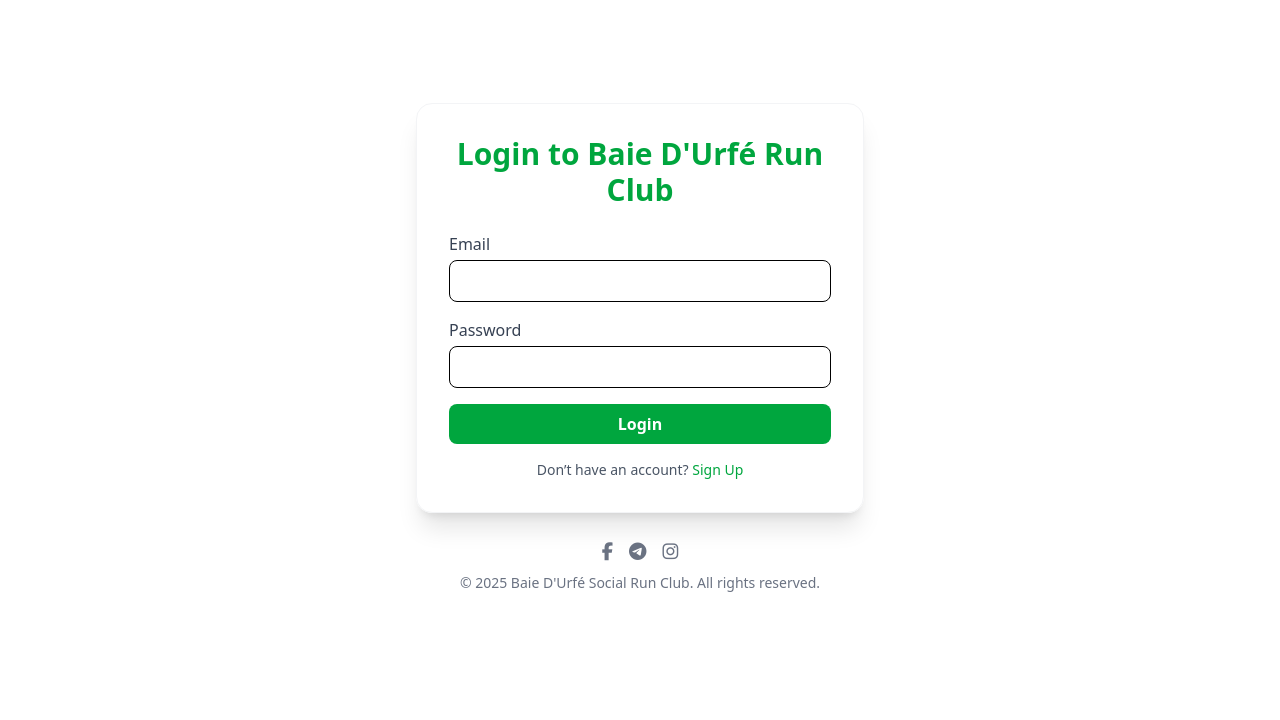
Test: Login Flow › should redirect to signup page when clicking "Sign Up"
Note: Click the "Sign Up" link
Click the link "Sign Up" at (718, 470), box [692,460,743,479]
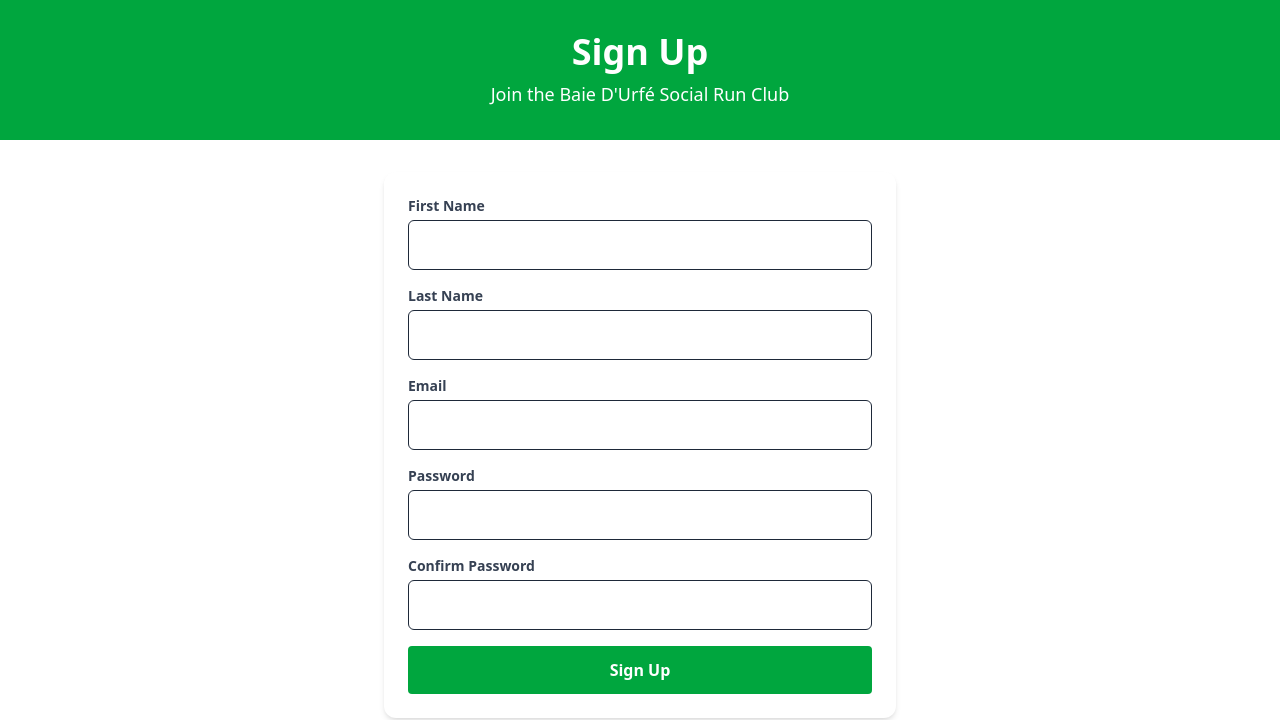
expect the text "Join the Baie D'Urfé Social Run Club" is shown: met, box [491,82,789,106]
